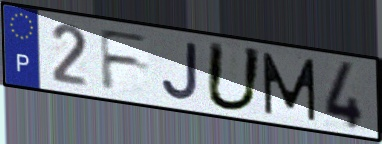2: (49, 22, 90, 89)
4: (321, 58, 366, 132)
F: (97, 26, 152, 92)
J: (159, 41, 201, 103)
M: (260, 49, 319, 123)
U: (203, 39, 266, 114)
